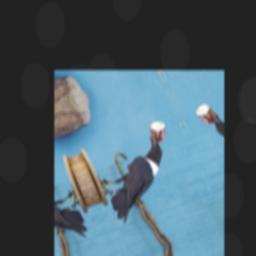Crow: (89, 134, 184, 227)
